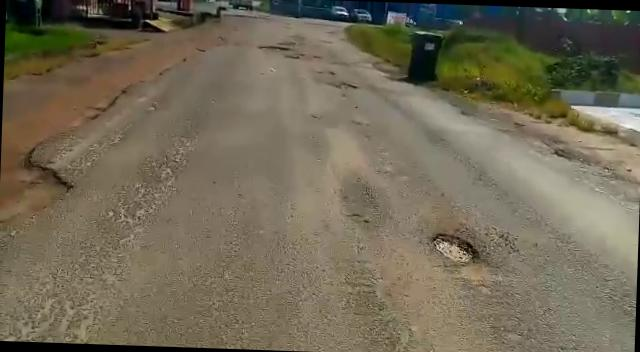pothole: (429, 230, 486, 268), (324, 79, 364, 91)
